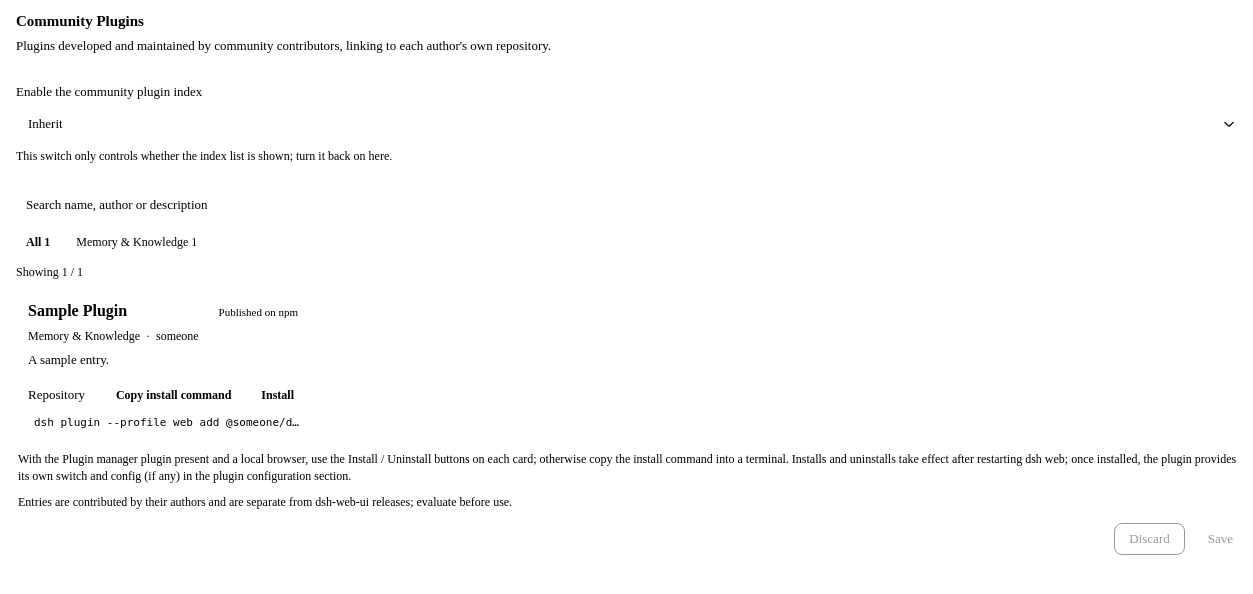
CommunityPluginsCard install states › shows a bilingual-keyed inline error when install fails
This screenshot has width=1253, height=594.
Click the button "Install". click: coordinates (278, 395)
box: left=249, top=382, right=306, bottom=408
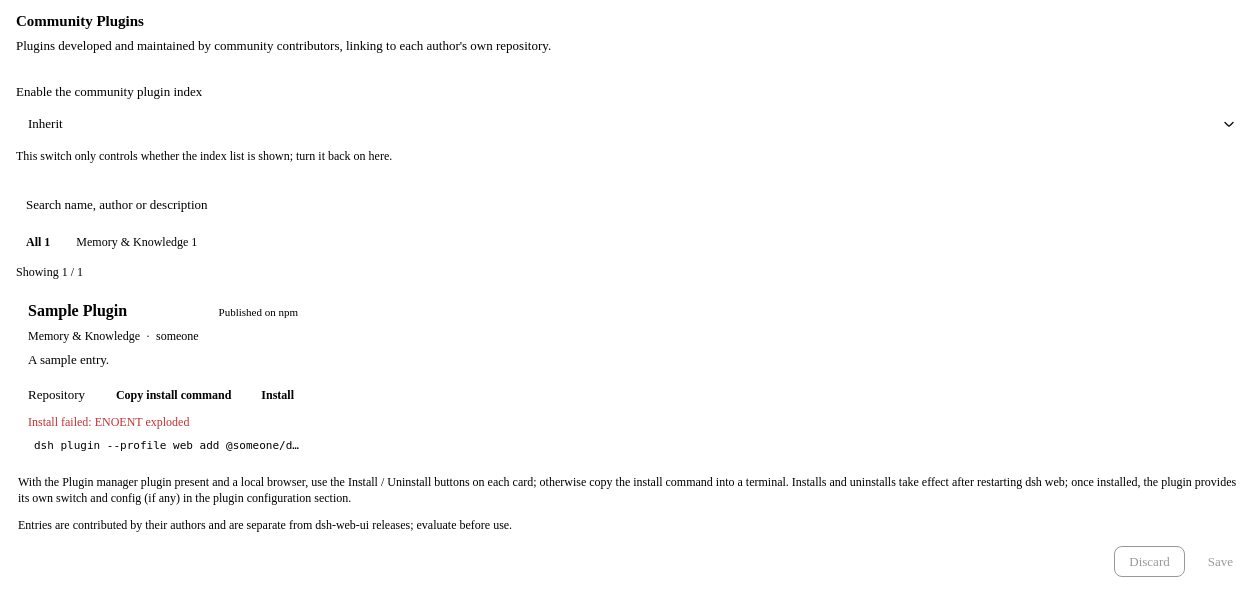
Result: the message "Install failed: ENOENT exploded" is shown at left=28, top=415, right=189, bottom=429
